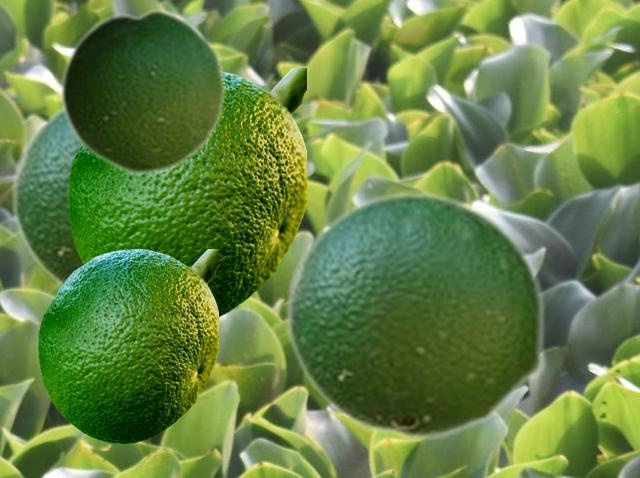dalandan: (284, 190, 546, 441), (68, 68, 305, 319), (38, 249, 217, 442), (59, 6, 226, 176), (10, 104, 82, 288)
